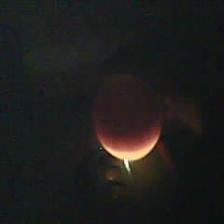fertile: (89, 72, 163, 161)
